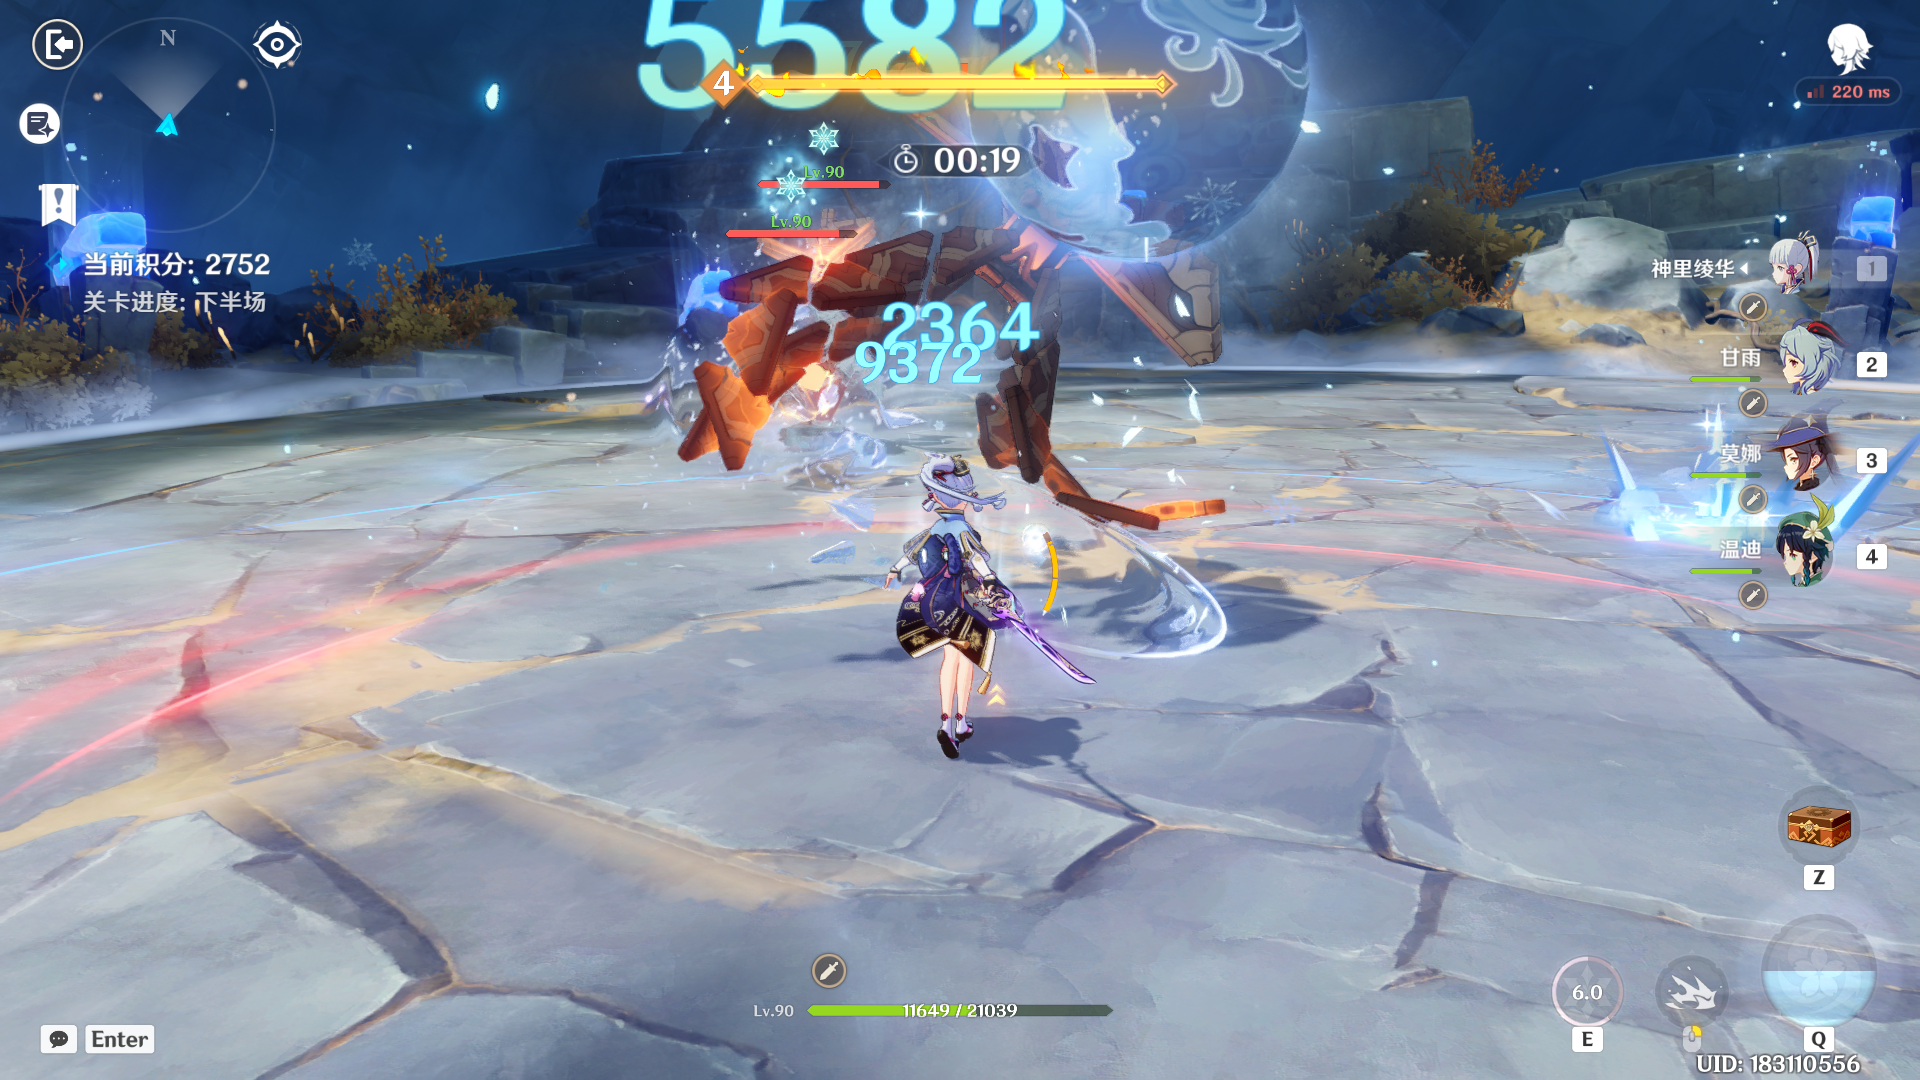character: (845, 440, 1036, 785)
